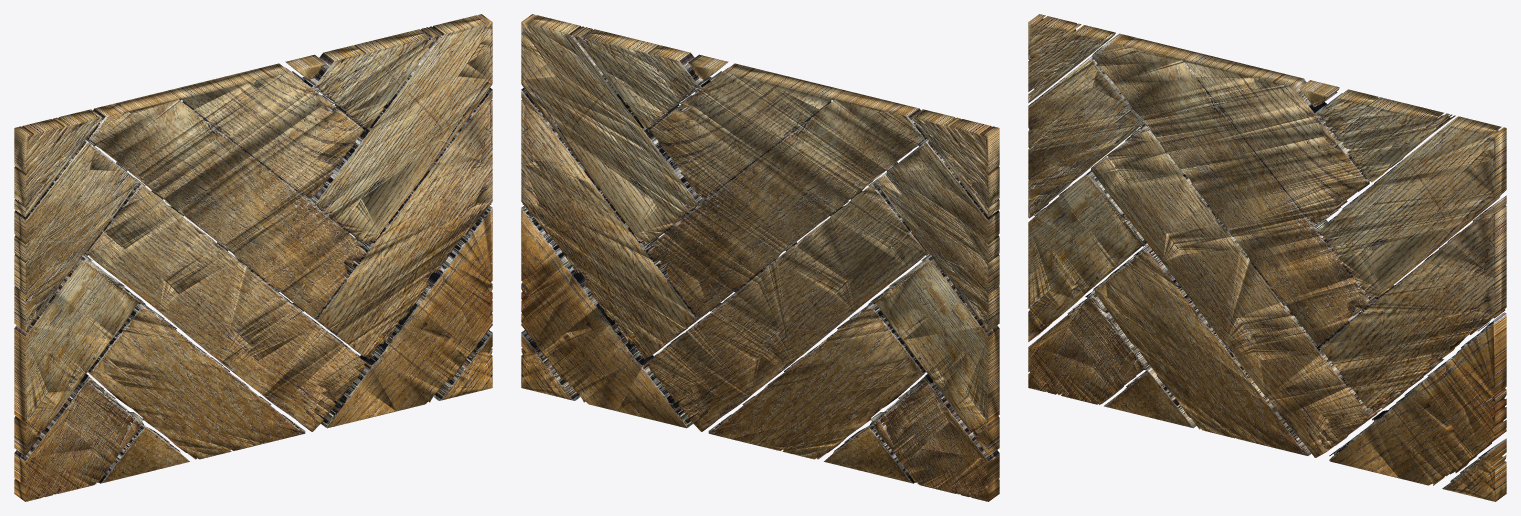
Rendered from PARKETT_1.gltf.
3 views of the same model, side by side, from view 1: azimuth 30°, elevation 25°; view 2: azimuth 150°, elevation 25°; view 3: azimuth 330°, elevation 25° (orthographic).
Parts seen in each view (by area): view 1: node-0; view 2: node-0; view 3: node-0.
Part boxes in pixels (left/top/right/bottom): node-0: left=14, top=14, right=492, bottom=501; node-0: left=521, top=14, right=999, bottom=501; node-0: left=1028, top=14, right=1506, bottom=501.
Size of the model in its own units: 212 by 159 by 8.69.
1 material, 1 textured.
